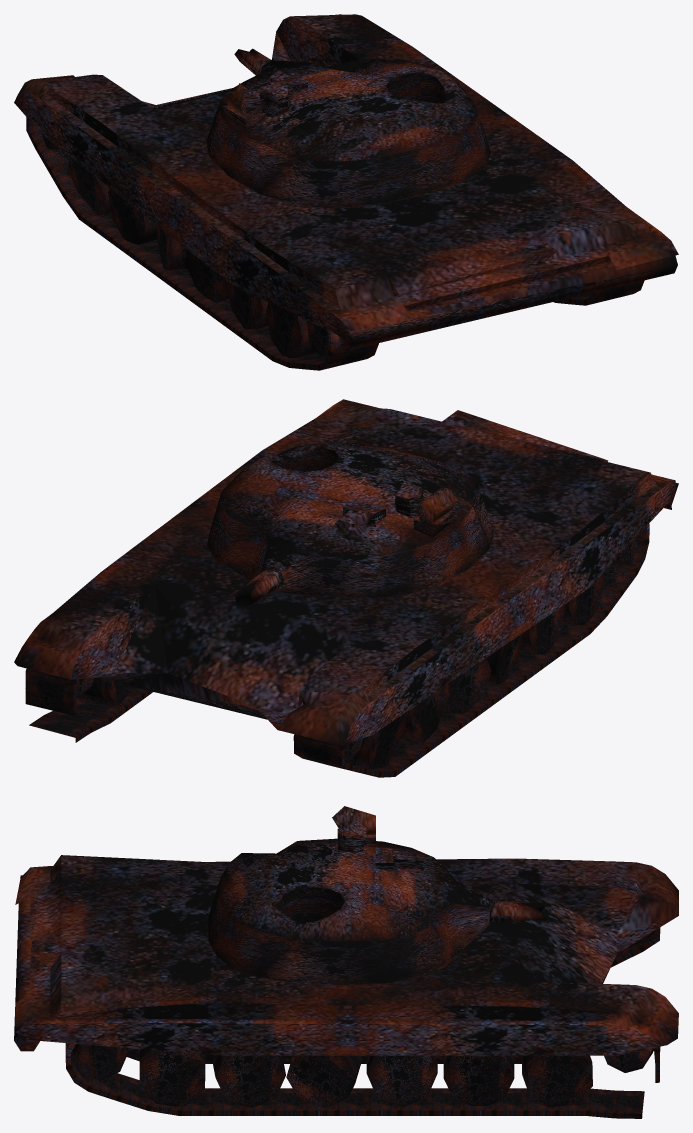
The model's file is T72M1_Destroyed.glb.
3 views of the same model, one above another, from view 1: azimuth 30°, elevation 25°; view 2: azimuth 150°, elevation 25°; view 3: azimuth 270°, elevation 25° (orthographic). The views are drawn at different scales.
Visible parts, largest first — view 1: T72M1_DESTROYED; view 2: T72M1_DESTROYED; view 3: T72M1_DESTROYED.
Boxes of the visible parts, x1,y1,x2,y2 form: T72M1_DESTROYED: (14, 14, 678, 370); T72M1_DESTROYED: (14, 399, 678, 777); T72M1_DESTROYED: (14, 806, 678, 1118).
Size of the model in its own units: 4.14 by 2.23 by 7.17.
1 material, 1 textured.
